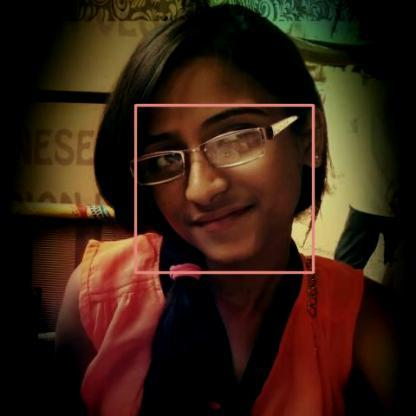without_mask: (135, 105, 313, 272)
